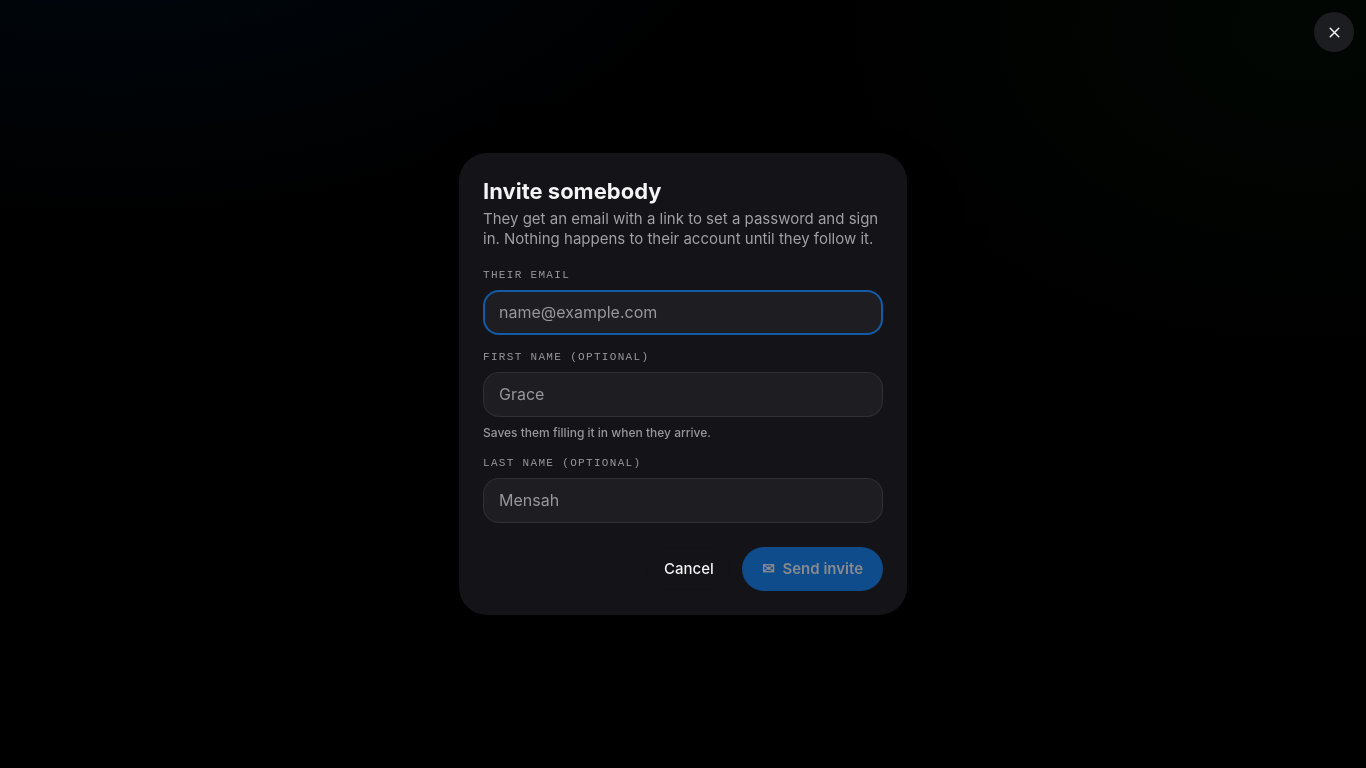
Test: InviteDialog › falls back to the plain sentence when a failure carries no reason
Type "grace@rehoboth.org" into the field with placeholder "name@example.com".
click(683, 312); type("grace@rehoboth.org")  # box [483, 290, 883, 335]
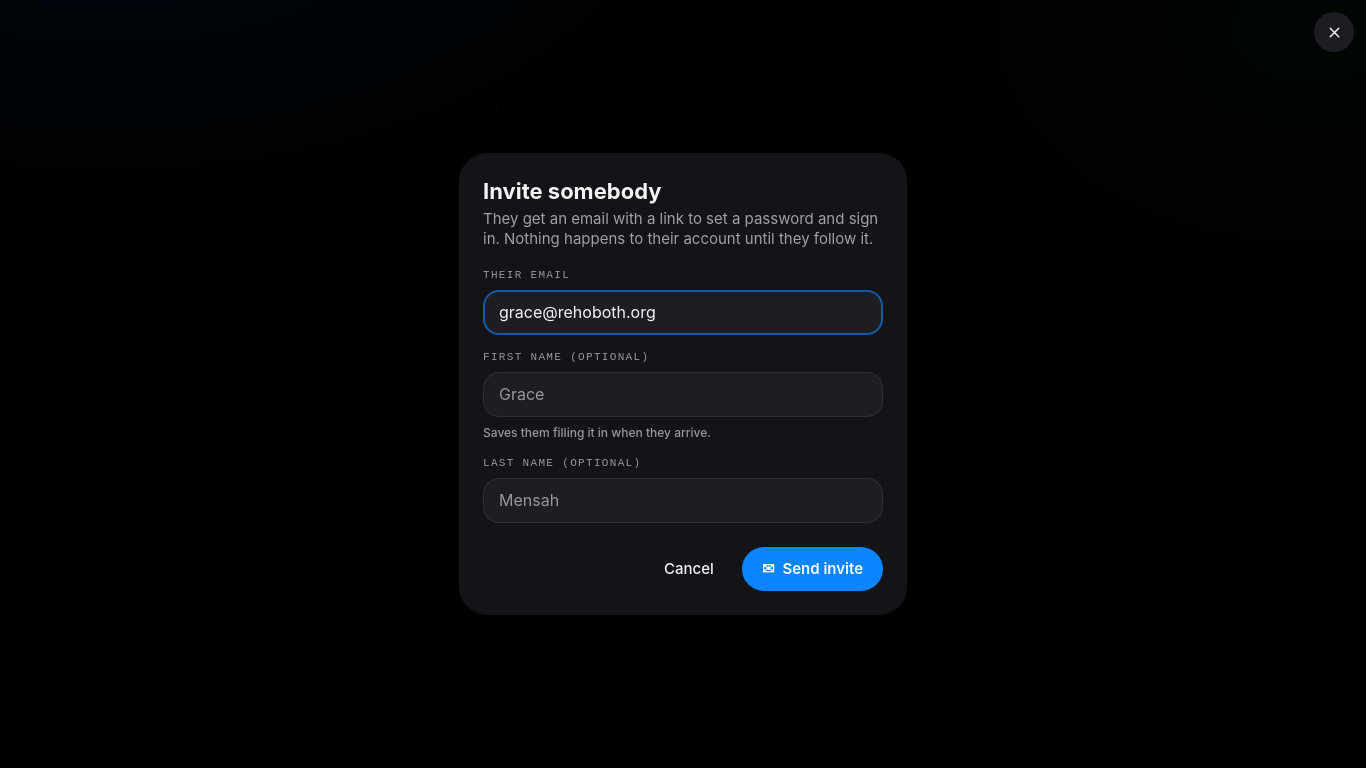
Click the button "✉ Send invite".
click(812, 569)  # box [742, 547, 883, 591]
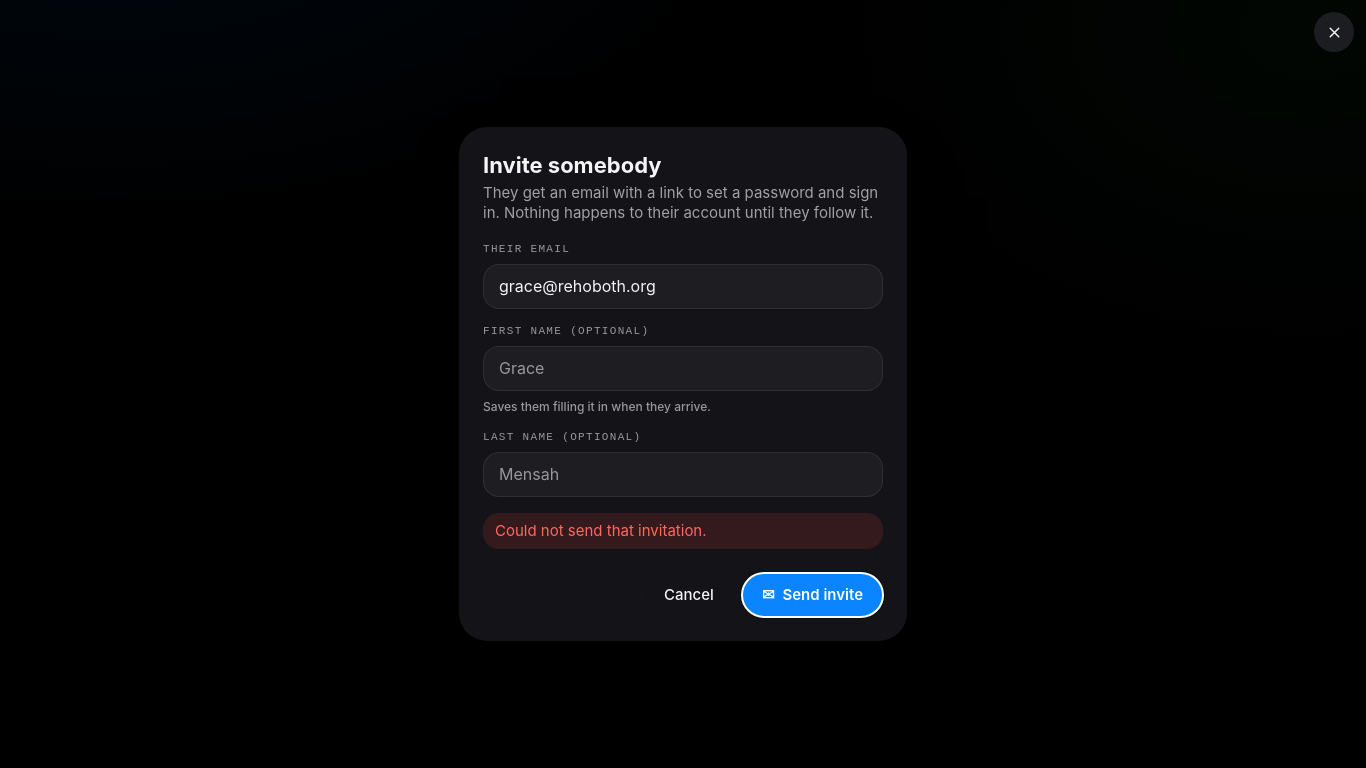
Now the text "Could not send that invitation." is shown, box [483, 513, 883, 549]
